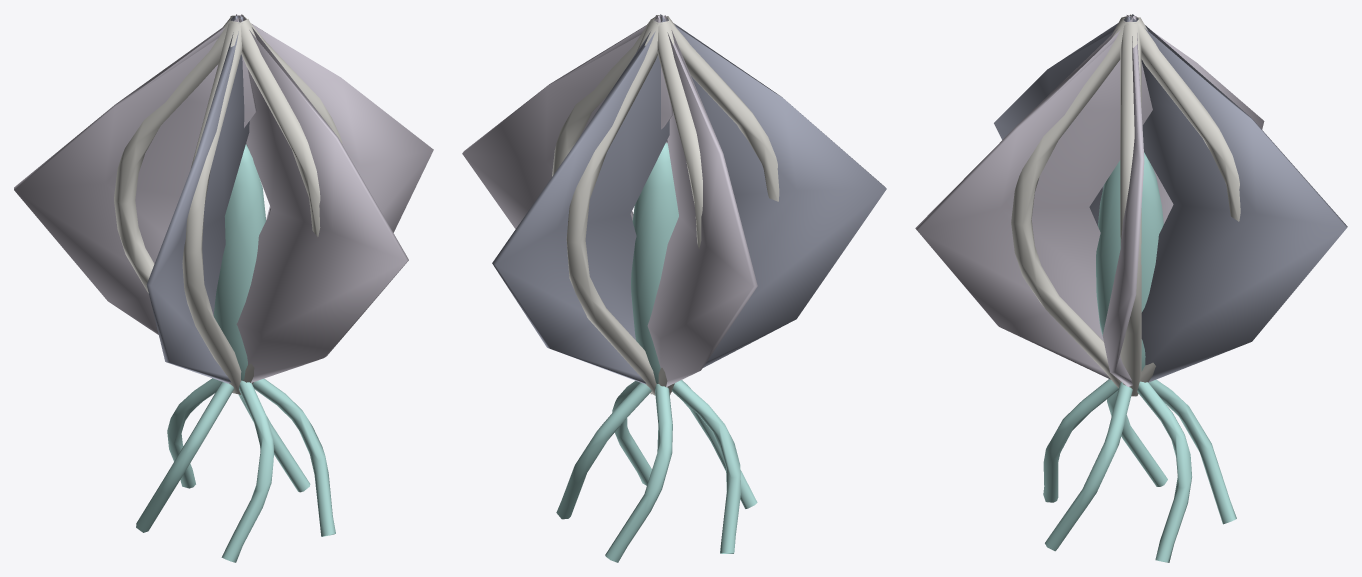
The model's file is bio_lantern_sail_03_far.glb.
3 views of the same model, side by side, from view 1: azimuth 30°, elevation 25°; view 2: azimuth 150°, elevation 25°; view 3: azimuth 270°, elevation 25° (orthographic).
Parts seen in each view (by area): view 1: Ribbed sensory membrane.004, Ribbed sensory membrane.002, Ribbed sensory membrane.003, Ribbed sensory membrane, Buoyancy spindle, Membrane leading seam.003, Membrane leading seam.002, Membrane leading seam.004, Trailing electroreceptor.003, Trailing electroreceptor.004, Trailing electroreceptor.002, Trailing electroreceptor.001 (+2 smaller); view 2: Ribbed sensory membrane.003, Ribbed sensory membrane.001, Ribbed sensory membrane.002, Ribbed sensory membrane, Membrane leading seam.001, Buoyancy spindle, Membrane leading seam.003, Membrane leading seam.002, Trailing electroreceptor.001, Trailing electroreceptor.002, Trailing electroreceptor, Membrane leading seam (+2 smaller); view 3: Ribbed sensory membrane.001, Ribbed sensory membrane.004, Membrane leading seam.004, Ribbed sensory membrane, Buoyancy spindle, Membrane leading seam, Membrane leading seam.001, Trailing electroreceptor, Ribbed sensory membrane.003, Trailing electroreceptor.004, Trailing electroreceptor.001, Trailing electroreceptor.003 (+2 smaller).
Boxes of the visible parts, left/top/right/bottom form: Ribbed sensory membrane.004: left=236, top=14, right=408, bottom=382; Ribbed sensory membrane.002: left=14, top=16, right=256, bottom=334; Ribbed sensory membrane.003: left=146, top=16, right=249, bottom=383; Ribbed sensory membrane: left=236, top=14, right=433, bottom=232; Buoyancy spindle: left=213, top=144, right=266, bottom=380; Membrane leading seam.003: left=182, top=20, right=242, bottom=394; Membrane leading seam.002: left=114, top=16, right=232, bottom=293; Membrane leading seam.004: left=237, top=19, right=320, bottom=394; Trailing electroreceptor.003: left=221, top=380, right=274, bottom=562; Trailing electroreceptor.004: left=252, top=378, right=335, bottom=536; Trailing electroreceptor.002: left=136, top=381, right=234, bottom=532; Trailing electroreceptor.001: left=167, top=378, right=221, bottom=488; Ribbed sensory membrane.003: left=660, top=14, right=886, bottom=367; Ribbed sensory membrane.001: left=492, top=16, right=669, bottom=384; Ribbed sensory membrane.002: left=647, top=15, right=757, bottom=387; Ribbed sensory membrane: left=462, top=16, right=672, bottom=228; Membrane leading seam.001: left=566, top=19, right=662, bottom=395; Buoyancy spindle: left=631, top=143, right=678, bottom=383; Membrane leading seam.003: left=667, top=16, right=779, bottom=392; Membrane leading seam.002: left=656, top=21, right=702, bottom=395; Trailing electroreceptor.001: left=605, top=384, right=672, bottom=562; Trailing electroreceptor.002: left=671, top=380, right=741, bottom=553; Trailing electroreceptor: left=556, top=382, right=651, bottom=519; Membrane leading seam: left=552, top=15, right=657, bottom=394; Ribbed sensory membrane.001: left=1131, top=14, right=1347, bottom=382; Ribbed sensory membrane.004: left=915, top=16, right=1152, bottom=379; Membrane leading seam.004: left=1011, top=18, right=1128, bottom=388; Ribbed sensory membrane: left=1102, top=16, right=1144, bottom=386; Buoyancy spindle: left=1096, top=152, right=1163, bottom=371; Membrane leading seam: left=1120, top=22, right=1141, bottom=396; Membrane leading seam.001: left=1134, top=17, right=1240, bottom=396; Trailing electroreceptor: left=1137, top=381, right=1191, bottom=562; Ribbed sensory membrane.003: left=994, top=16, right=1130, bottom=225; Trailing electroreceptor.004: left=1045, top=382, right=1132, bottom=551; Trailing electroreceptor.001: left=1149, top=379, right=1236, bottom=524; Trailing electroreceptor.003: left=1043, top=379, right=1118, bottom=502.
Bounding box in the file's own units: 1.98 × 2.69 × 2.07.
